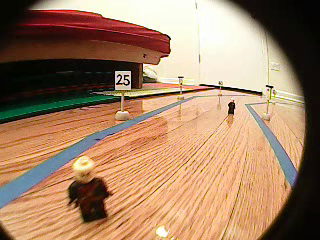Person: (68, 155, 114, 222), (228, 97, 236, 116)
Red Traffic Light: (264, 84, 273, 103)
Speed Limit 25: (115, 71, 132, 90)
